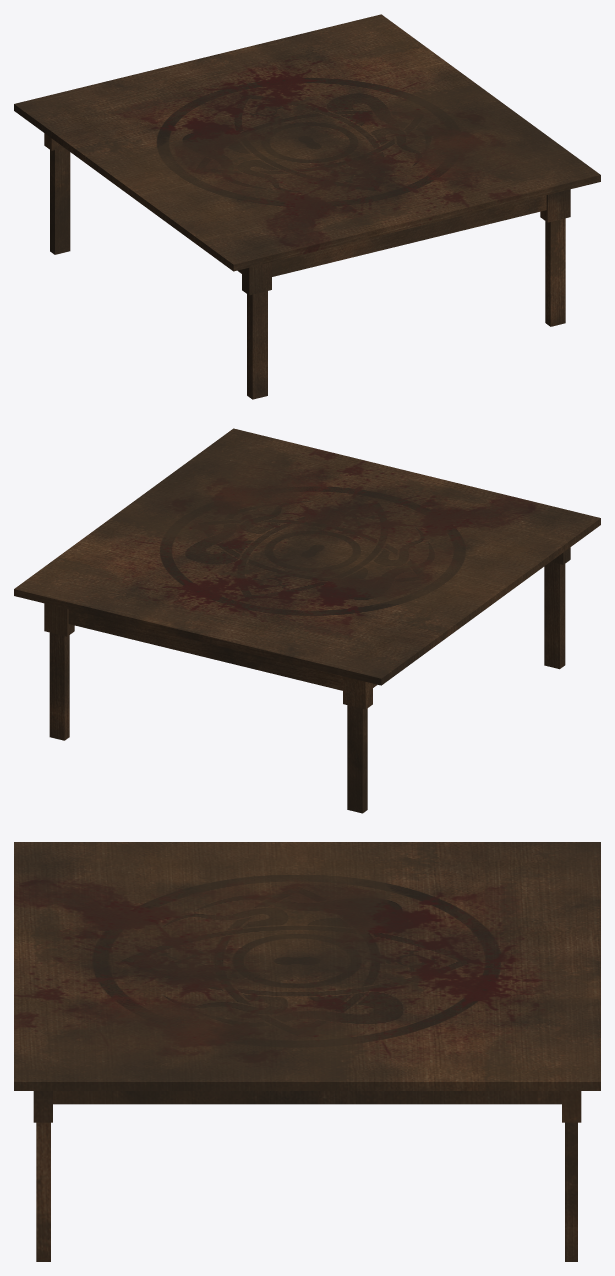
The model's file is squaretable.fbx.
The picture shows the model from 3 angles, top to bottom: view 1: azimuth 30°, elevation 25°; view 2: azimuth 150°, elevation 25°; view 3: azimuth 270°, elevation 25°; orthographic projection. The views are drawn at different scales.
Parts seen in each view (by area): view 1: table_square_UV:table_square; view 2: table_square_UV:table_square; view 3: table_square_UV:table_square.
Part boxes in pixels (x1=…): table_square_UV:table_square: x1=14, y1=14, x2=600, y2=399; table_square_UV:table_square: x1=14, y1=428, x2=600, y2=813; table_square_UV:table_square: x1=14, y1=842, x2=600, y2=1261.
Bounding box in the file's own units: 28.99 × 11.14 × 30.
Materials: 1 (1 with a texture image).
